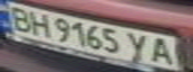1: (66, 19, 87, 46)
5: (100, 26, 124, 56)
6: (84, 22, 106, 51)
9: (48, 15, 72, 43)
A: (145, 35, 181, 68)
B: (3, 4, 36, 33)
H: (24, 9, 54, 37)
Y: (124, 29, 154, 63)
